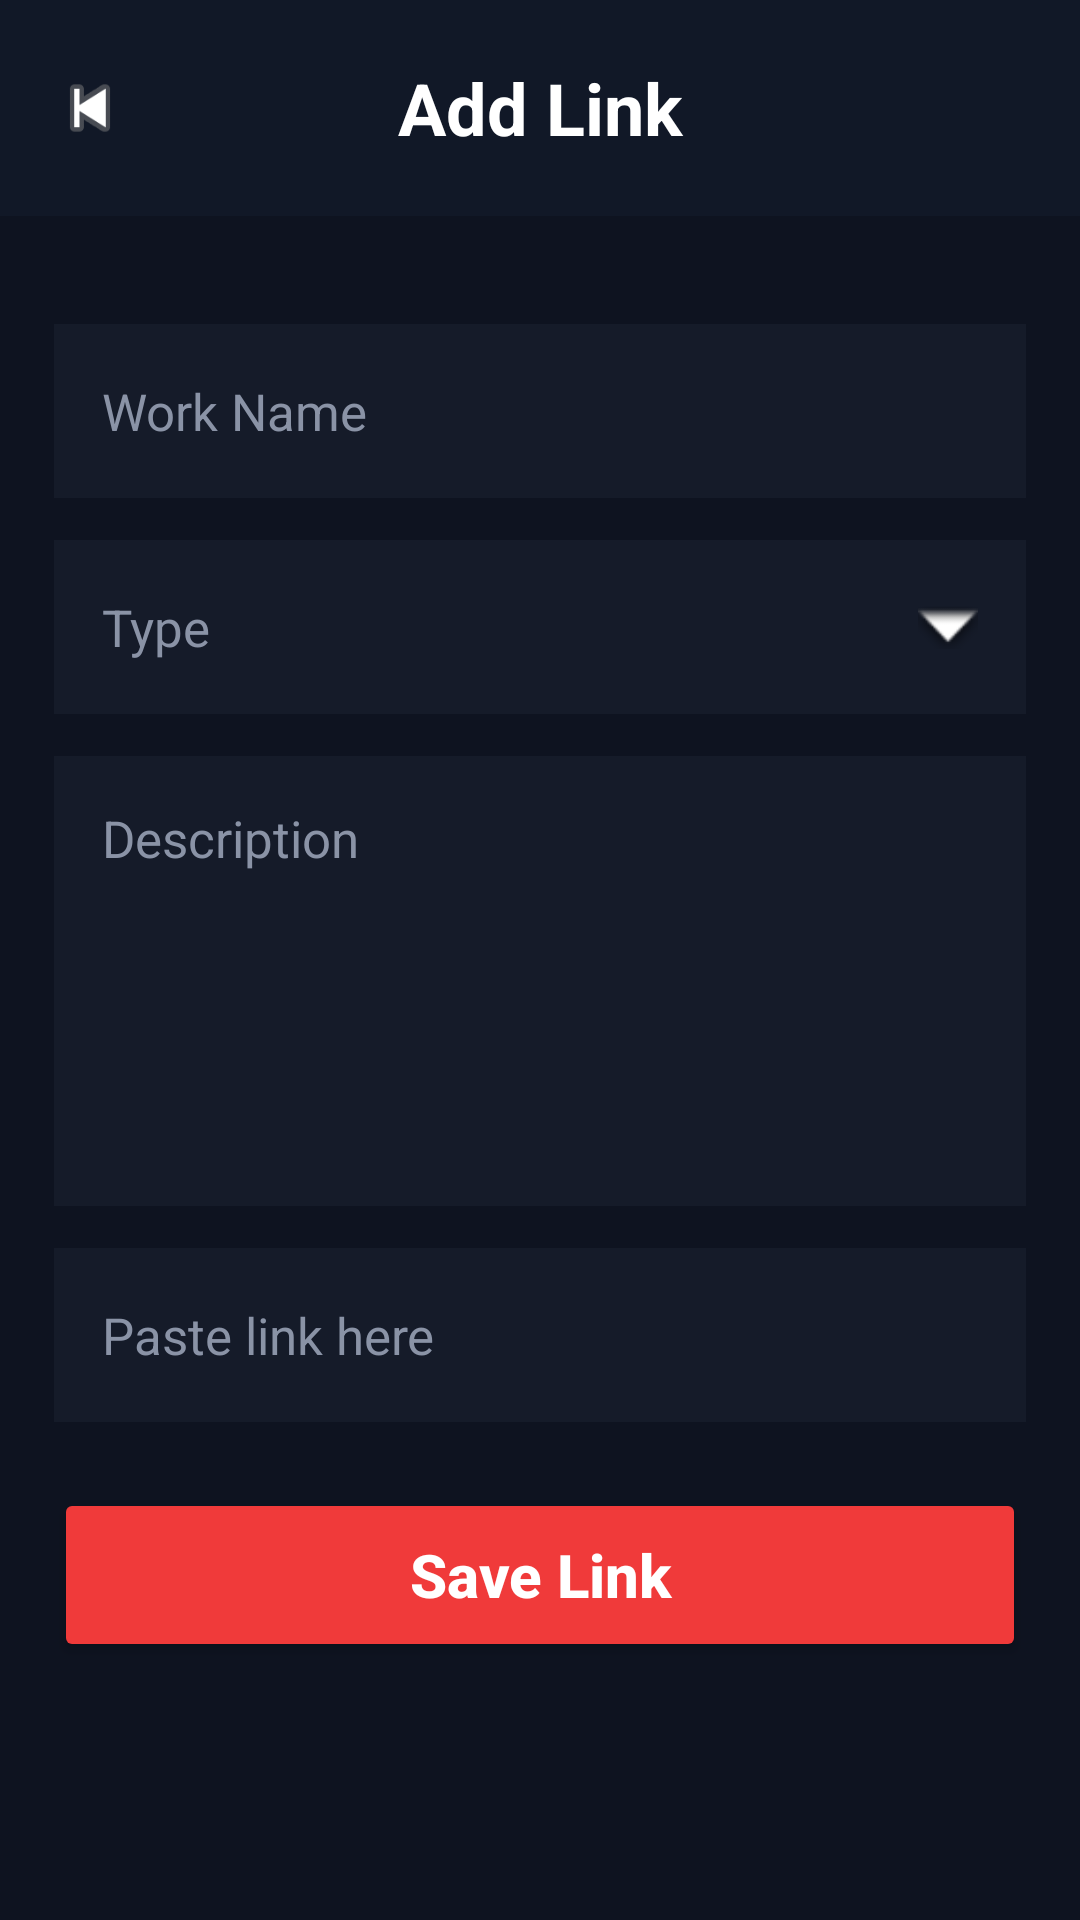

Screen size 1080px x 1920px. Icon name, then its center in pixels as [x,y]:
Back: [90,108]
